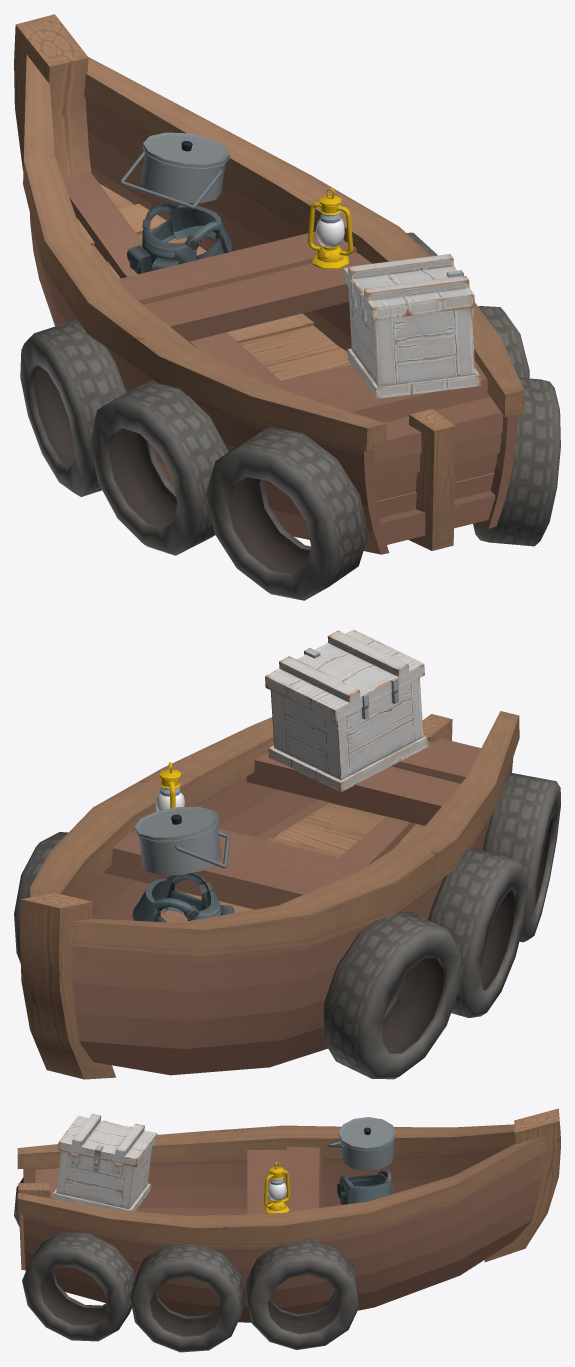
The model's file is Prfb_BoatBetweenBaseAndFarm.fbx.
3 views of the same model, one above another, from view 1: azimuth 30°, elevation 25°; view 2: azimuth 150°, elevation 25°; view 3: azimuth 270°, elevation 25° (orthographic). The views are drawn at different scales.
Visible parts, largest first — view 1: Mat_WoodBoards_01, OutDoor, Mat_WoodBoards_01 3, Mat_WoodBox_01_1, ColorA Smooth, Mat_Clothes_LV4, ColorB; view 2: Mat_WoodBoards_01 3, Mat_WoodBoards_01, OutDoor, Mat_WoodBox_01_1, ColorA Smooth, Mat_Clothes_LV4, ColorB; view 3: Mat_WoodBoards_01 3, Mat_WoodBoards_01, OutDoor, Mat_WoodBox_01_1, ColorA Smooth, Mat_Clothes_LV4, ColorB.
Part boxes in pixels (x1,y1,x2,y2): Mat_WoodBoards_01: (14,14,524,550); OutDoor: (20,232,560,600); Mat_WoodBoards_01 3: (30,98,518,554); Mat_WoodBox_01_1: (343,254,480,398); ColorA Smooth: (120,132,229,208); Mat_Clothes_LV4: (127,203,231,274); ColorB: (308,188,353,269); Mat_WoodBoards_01 3: (72,738,513,1075); Mat_WoodBoards_01: (20,711,519,1079); OutDoor: (14,773,560,1079); Mat_WoodBox_01_1: (265,629,428,792); ColorA Smooth: (134,806,229,875); Mat_Clothes_LV4: (132,872,234,922); ColorB: (159,762,181,808); Mat_WoodBoards_01 3: (23,1146,540,1322); Mat_WoodBoards_01: (17,1108,560,1270); OutDoor: (14,1177,359,1352); Mat_WoodBox_01_1: (52,1113,157,1211); ColorA Smooth: (327,1117,396,1170); Mat_Clothes_LV4: (337,1170,394,1204); ColorB: (263,1162,290,1213).
Bounding box in the file's own units: 3.16 × 2.19 × 5.8.
Materials: 9 (9 with a texture image).
